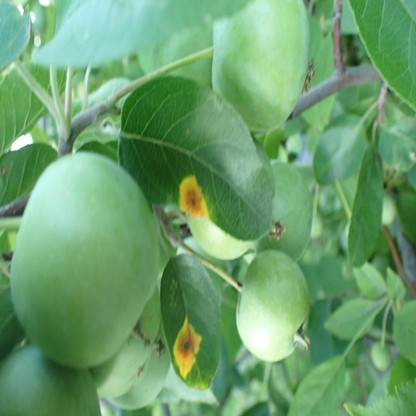rust: (174, 314, 203, 380), (179, 174, 209, 217)
